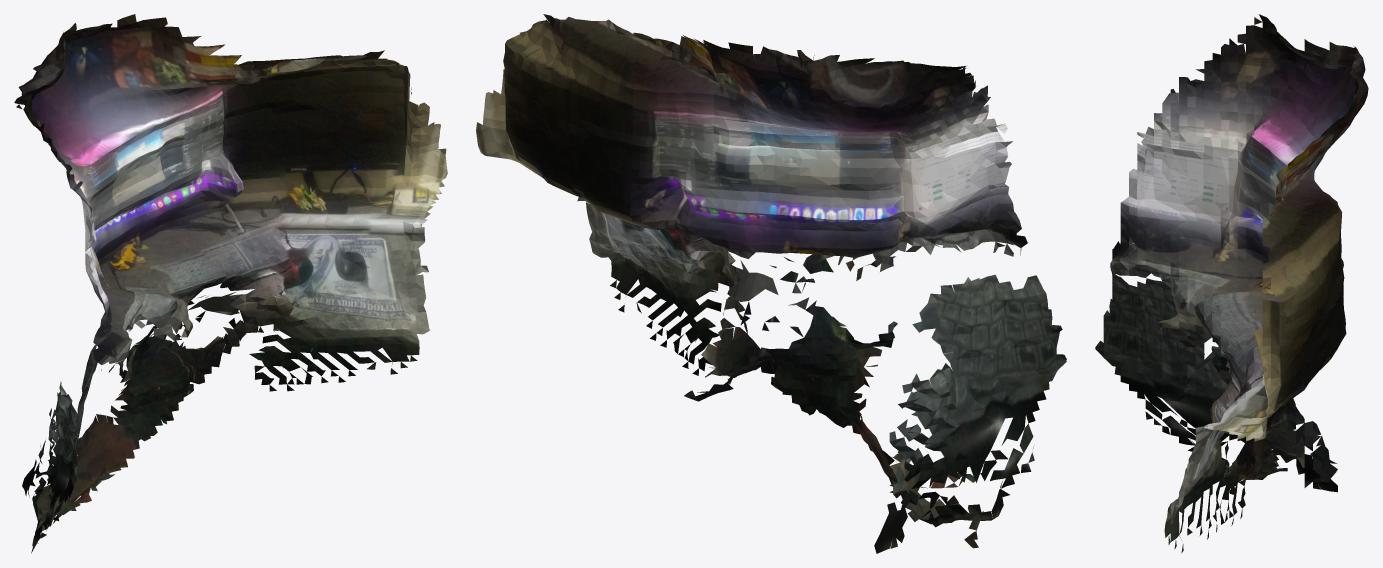
The model's file is WorkDesk.fbx.
3 views of the same model, side by side, from view 1: azimuth 30°, elevation 25°; view 2: azimuth 150°, elevation 25°; view 3: azimuth 270°, elevation 25° (orthographic). The views are drawn at different scales.
Visible parts, largest first — view 1: mesh; view 2: mesh; view 3: mesh.
Boxes of the visible parts, box(x1,y1,x2,y2) form: mesh: box(14, 14, 447, 553); mesh: box(476, 14, 1066, 553); mesh: box(1095, 14, 1368, 553).
Bounding box in the file's own units: 1.68 × 1.65 × 0.8164.
Materials: 1 (1 with a texture image).
